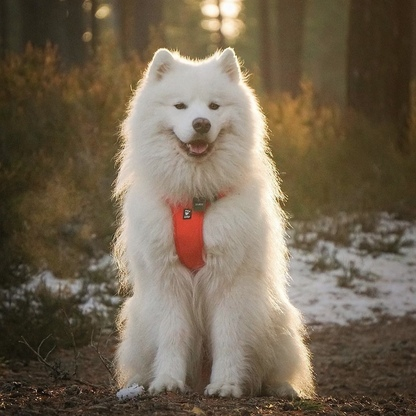samoyed: (106, 39, 322, 404)
